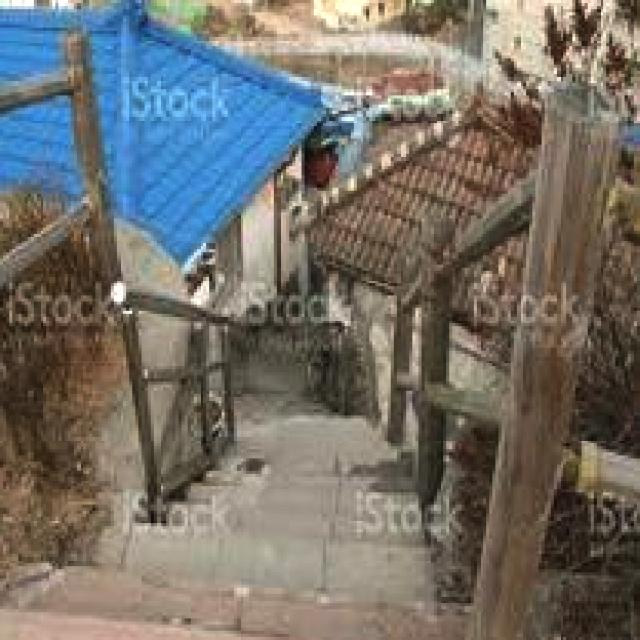downstair: (44, 472, 423, 640)
